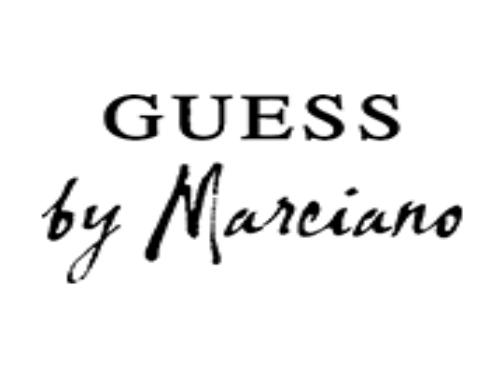GUESS: (92, 86, 411, 144)
